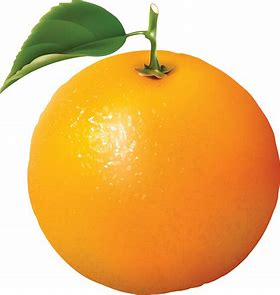orange: (26, 36, 279, 294)
